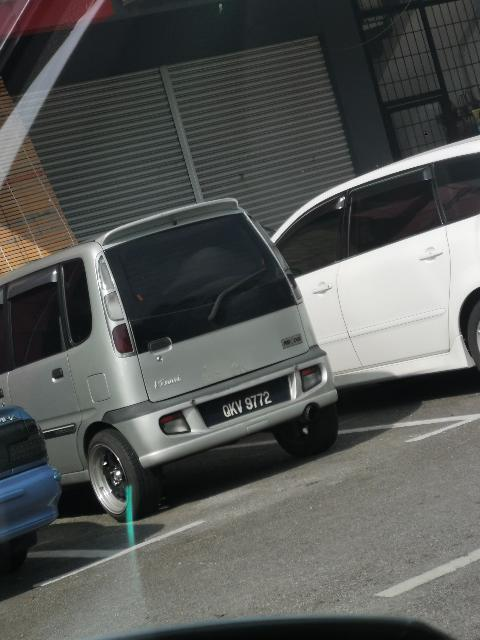License_Plate: (201, 376, 293, 429)
car: (2, 178, 351, 506)
